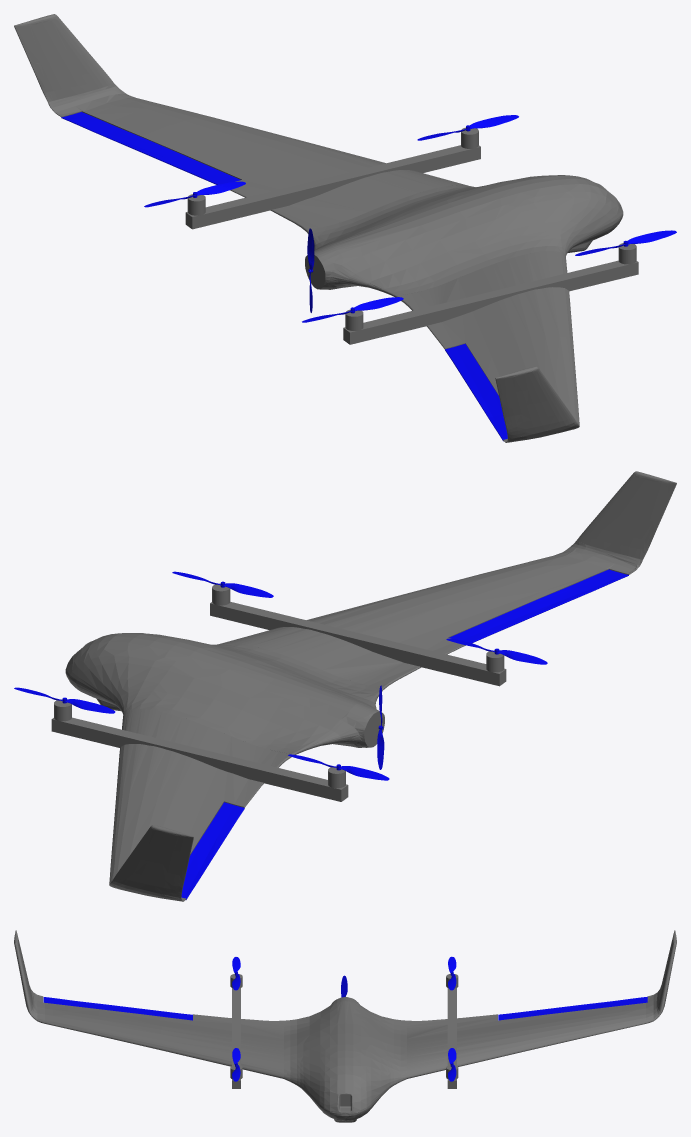
Rendered from standard-vtol.glb.
The picture shows the model from 3 angles, top to bottom: view 1: azimuth 30°, elevation 25°; view 2: azimuth 150°, elevation 25°; view 3: azimuth 270°, elevation 25°; orthographic projection. The views are drawn at different scales.
Parts seen in each view (by area): view 1: base_link/base_link_visual:0, base_link/right_motor_column:0, base_link/left_motor_column:0, left_elevon/left_elevon_visual:0, right_elevon/right_elevon_visual:0; view 2: base_link/base_link_visual:0, base_link/left_motor_column:0, base_link/right_motor_column:0, right_elevon/right_elevon_visual:0, left_elevon/left_elevon_visual:0; view 3: base_link/base_link_visual:0, left_elevon/left_elevon_visual:0, right_elevon/right_elevon_visual:0, base_link/left_motor_column:0, base_link/right_motor_column:0.
Part boxes in pixels (x1=…): base_link/base_link_visual:0: x1=14, y1=14, x2=623, y2=442; base_link/right_motor_column:0: x1=343, y1=260, x2=638, y2=344; base_link/left_motor_column:0: x1=185, y1=145, x2=480, y2=229; left_elevon/left_elevon_visual:0: x1=61, y1=112, x2=240, y2=184; right_elevon/right_elevon_visual:0: x1=445, y1=343, x2=507, y2=441; base_link/base_link_visual:0: x1=65, y1=471, x2=676, y2=901; base_link/left_motor_column:0: x1=51, y1=717, x2=348, y2=801; base_link/right_motor_column:0: x1=210, y1=602, x2=506, y2=686; right_elevon/right_elevon_visual:0: x1=449, y1=569, x2=628, y2=643; left_elevon/left_elevon_visual:0: x1=181, y1=802, x2=244, y2=899; base_link/base_link_visual:0: x1=14, y1=930, x2=676, y2=1122; left_elevon/left_elevon_visual:0: x1=498, y1=996, x2=647, y2=1020; right_elevon/right_elevon_visual:0: x1=43, y1=997, x2=192, y2=1020; base_link/left_motor_column:0: x1=447, y1=988, x2=456, y2=1088; base_link/right_motor_column:0: x1=232, y1=988, x2=240, y2=1088.
Size of the model in its own units: 1.01 by 0.3073 by 2.15.
